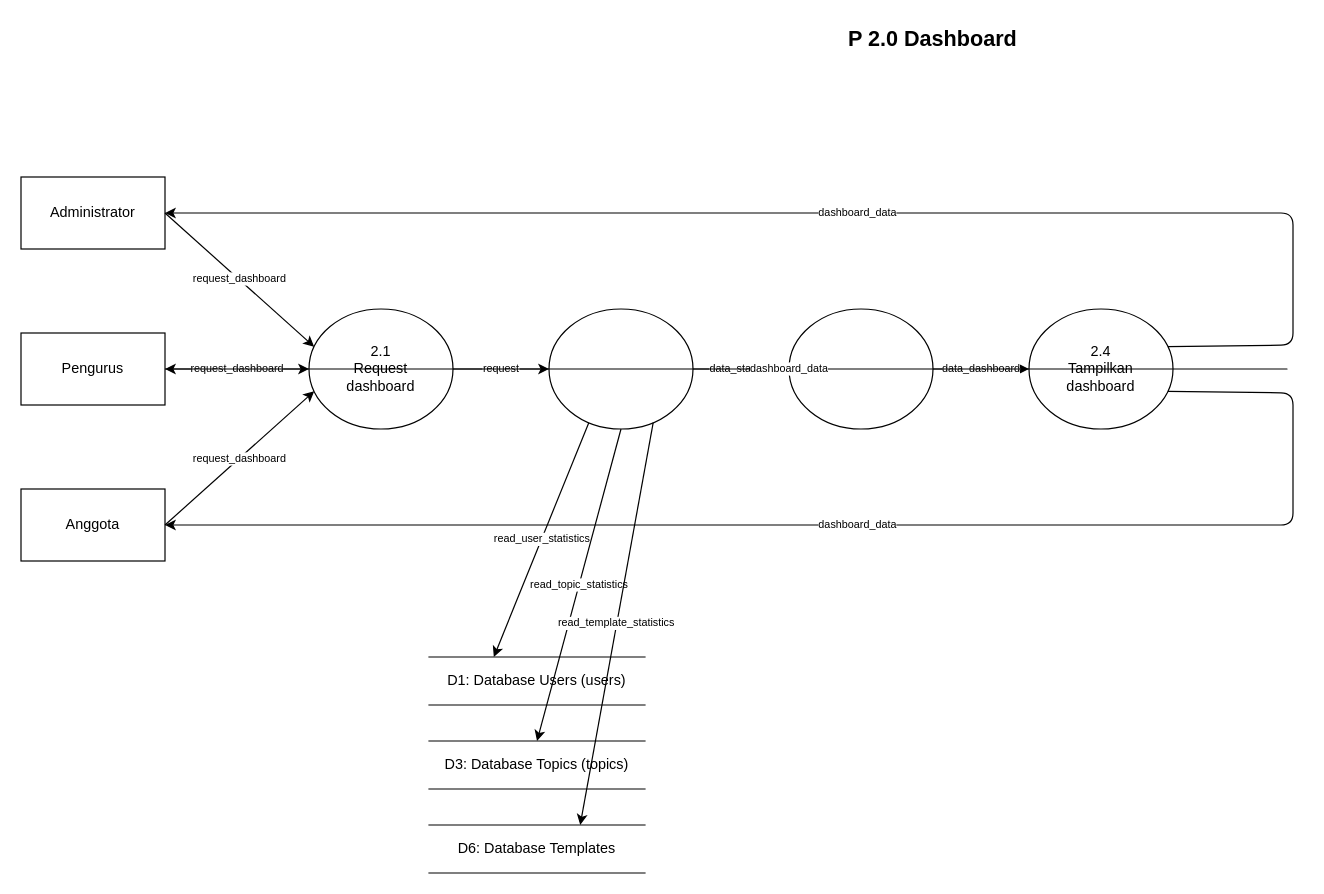
This 1324x894 diagram has some shape labels left out. Here are the shapes that lost their labels. From the top down, the box of each, then its label:
(548, 308, 693, 429): 2.2 Kumpulkan statistik
(788, 308, 933, 429): 2.3 Format data dashboard
